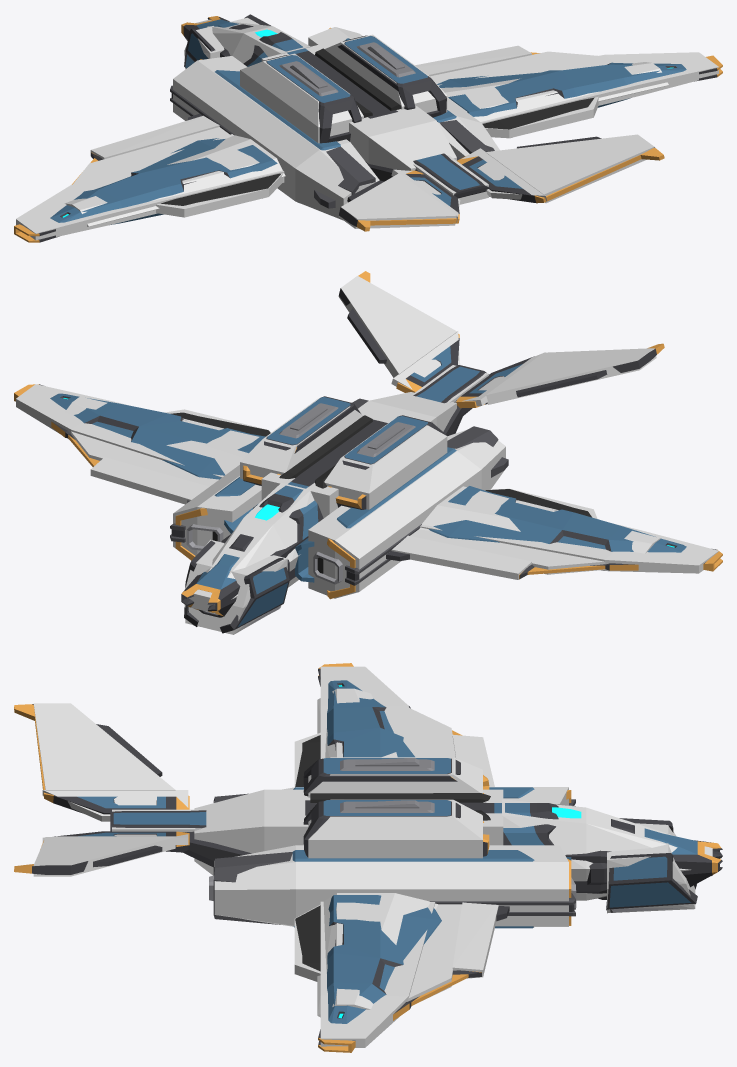
File: SM_Ship_Fighter_04.fbx
3 renders of one model, top to bottom at view 1: azimuth 30°, elevation 25°; view 2: azimuth 150°, elevation 25°; view 3: azimuth 270°, elevation 25°, orthographic. The views are drawn at different scales.
Parts seen in each view (by area): view 1: SM_Ship_Fighter_04_ConvexHulls, SM_Ship_Fighter_04_LOD0; view 2: SM_Ship_Fighter_04_ConvexHulls, SM_Ship_Fighter_04_LOD0; view 3: SM_Ship_Fighter_04_ConvexHulls, SM_Ship_Fighter_04_LOD0.
Part boxes in pixels (x1,y1,x2,y2): SM_Ship_Fighter_04_ConvexHulls: [16, 17, 718, 240]; SM_Ship_Fighter_04_LOD0: [14, 14, 722, 242]; SM_Ship_Fighter_04_ConvexHulls: [16, 276, 718, 634]; SM_Ship_Fighter_04_LOD0: [14, 271, 722, 633]; SM_Ship_Fighter_04_ConvexHulls: [33, 666, 712, 1047]; SM_Ship_Fighter_04_LOD0: [14, 663, 722, 1052].
Bounding box in the file's own units: 1522 × 1934 × 280.
Materials: 1 (1 with a texture image).
